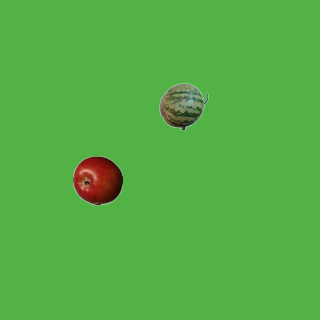Apple Braeburn: (72, 155, 122, 205)
Watermelon: (158, 81, 208, 131)
